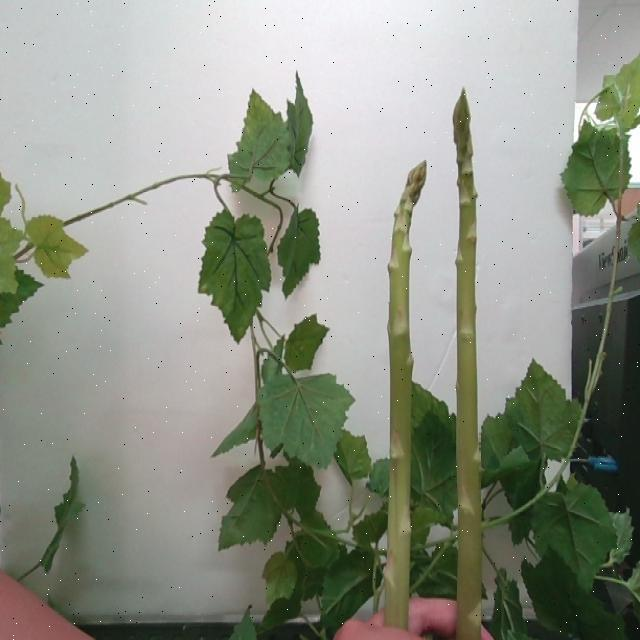aspargus: (381, 164, 429, 619), (451, 91, 482, 640)
